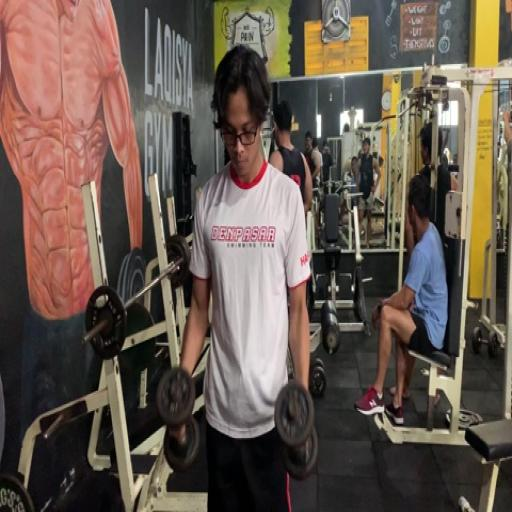exercise: (168, 42, 318, 510), (352, 172, 451, 428)
